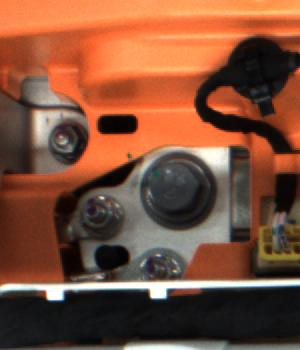nut_b: (135, 149, 221, 229)
screw_s: (39, 119, 84, 166), (81, 193, 127, 237), (140, 247, 187, 279)
